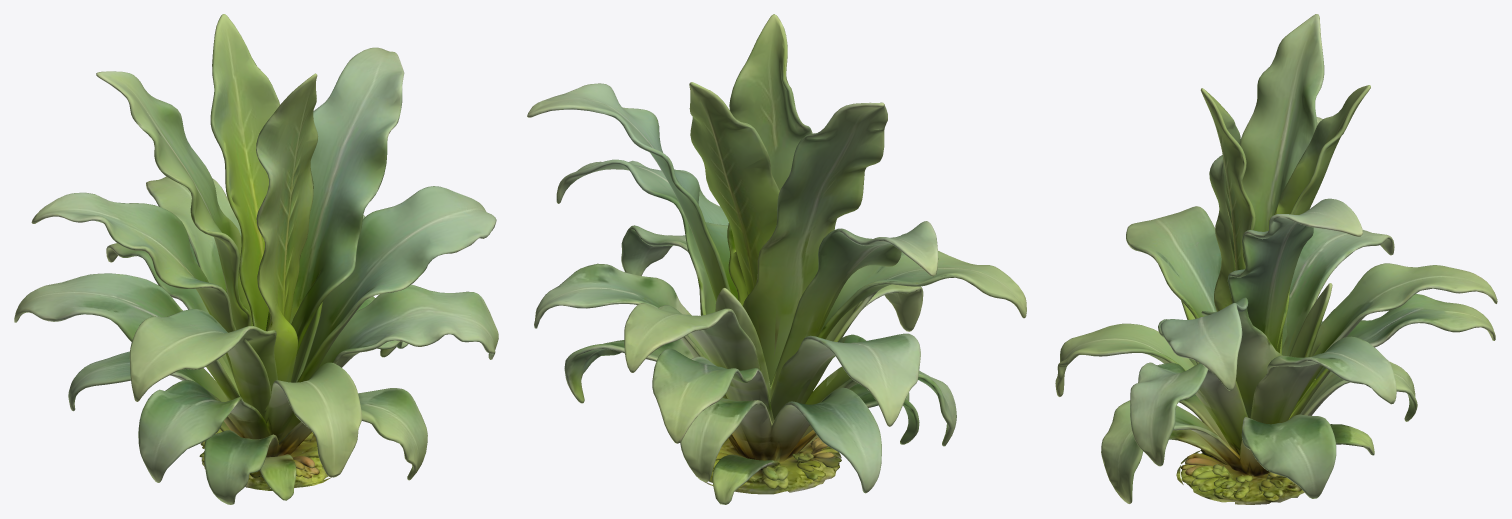
Rendered from sword.glb.
3 renders of one model, left to right at view 1: azimuth 30°, elevation 25°; view 2: azimuth 150°, elevation 25°; view 3: azimuth 270°, elevation 25°, orthographic. The views are drawn at different scales.
Visible parts, largest first — view 1: node_0; view 2: node_0; view 3: node_0.
Part boxes in pixels (box(x1,y1,x2,y2)): node_0: box(14, 14, 498, 504); node_0: box(527, 14, 1026, 504); node_0: box(1055, 14, 1497, 504).
Bounding box in the file's own units: 0.9578 × 0.8958 × 0.909.
1 material, 1 textured.
